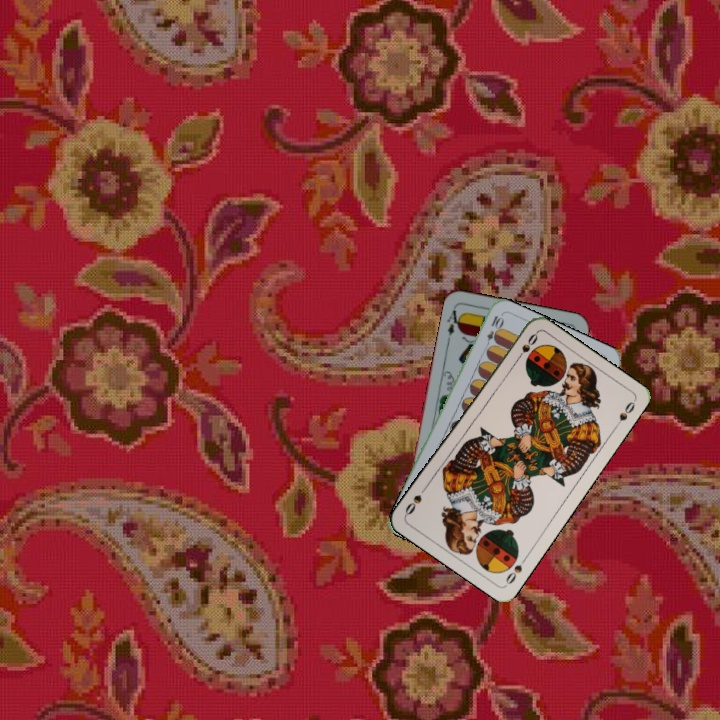E10: (481, 312, 505, 351)
EA: (443, 303, 465, 338)
SO: (511, 329, 540, 365), (502, 552, 530, 587)
